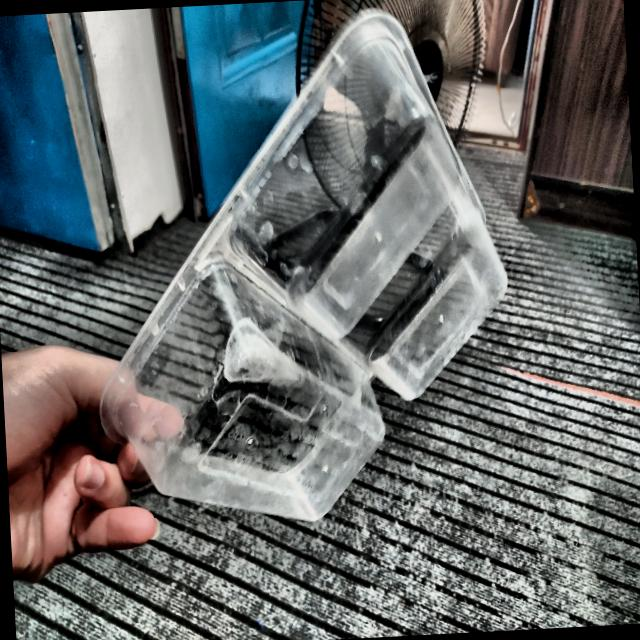plastic container: (101, 10, 507, 521)
